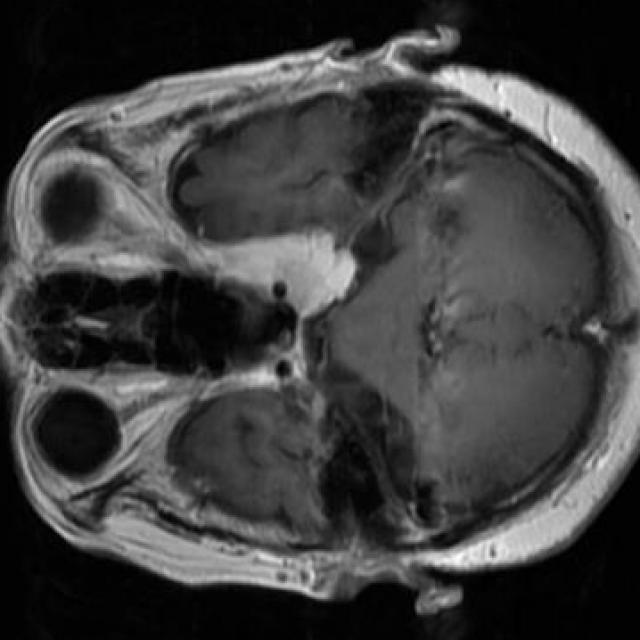meningioma: (203, 232, 357, 319)
